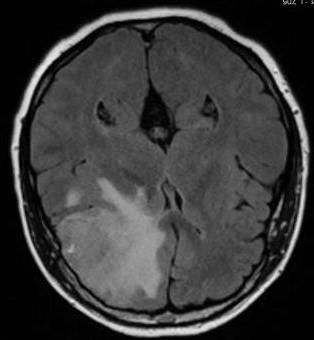Tumor: (43, 176, 187, 307)
